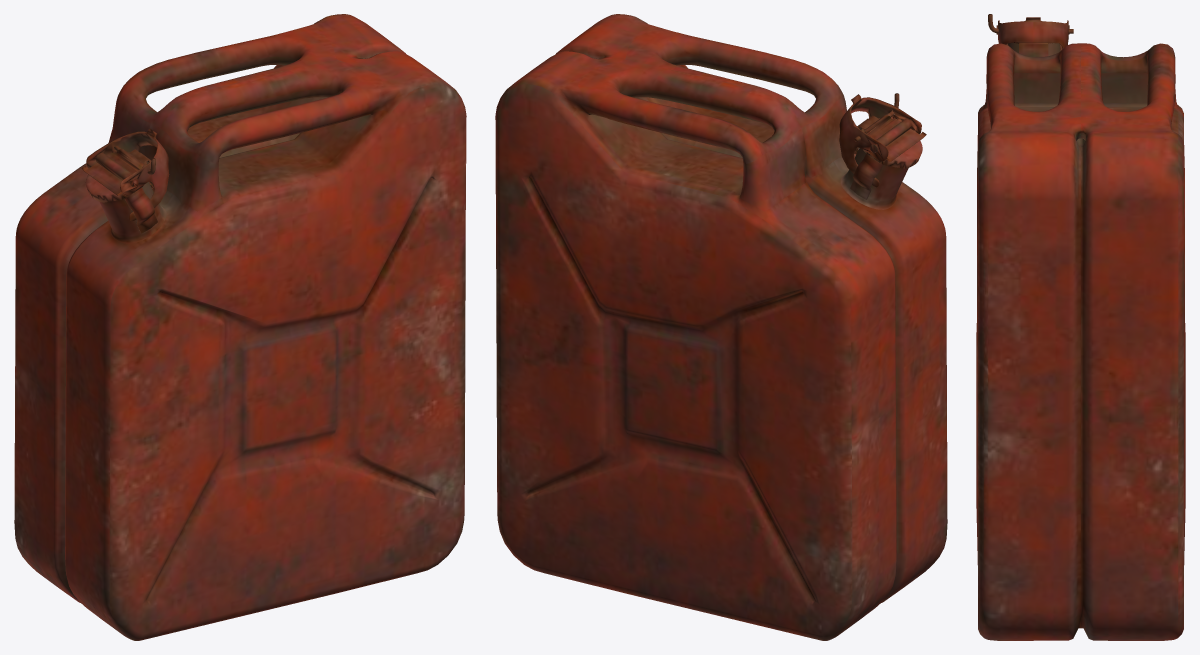
File: metal_jerrycan.glb
The picture shows the model from 3 angles, left to right: view 1: azimuth 30°, elevation 25°; view 2: azimuth 150°, elevation 25°; view 3: azimuth 270°, elevation 25°; orthographic projection. The views are drawn at different scales.
Parts seen in each view (by area): view 1: metal_jerrycan; view 2: metal_jerrycan; view 3: metal_jerrycan.
Boxes of the visible parts, x1=… form: metal_jerrycan: x1=14, y1=14, x2=466, y2=640; metal_jerrycan: x1=495, y1=14, x2=947, y2=640; metal_jerrycan: x1=976, y1=14, x2=1185, y2=640.
Bounding box in the file's own units: 0.3503 × 0.4552 × 0.1718.
1 material, 1 textured.
